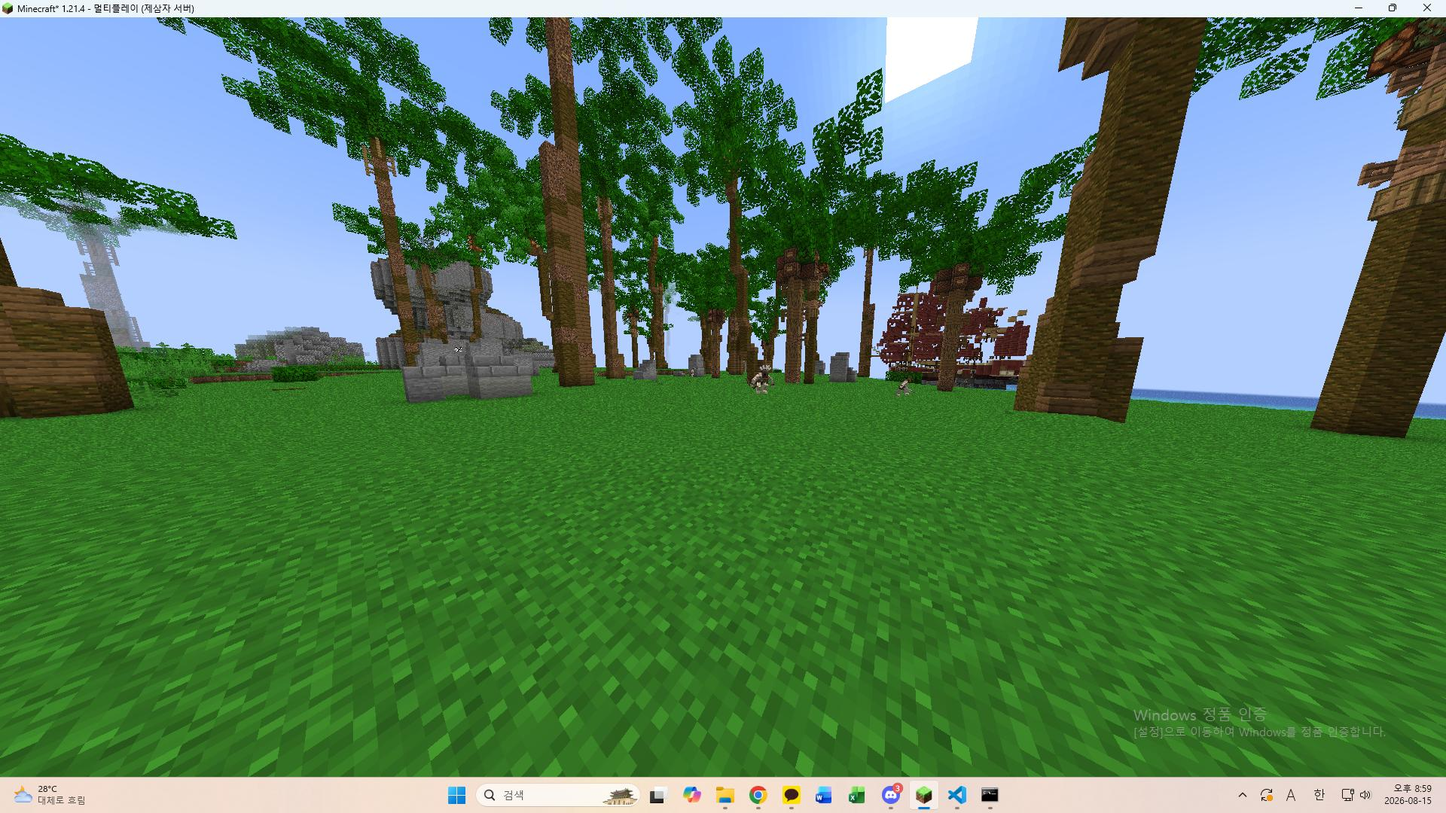bow_indian: (743, 356, 785, 401)
